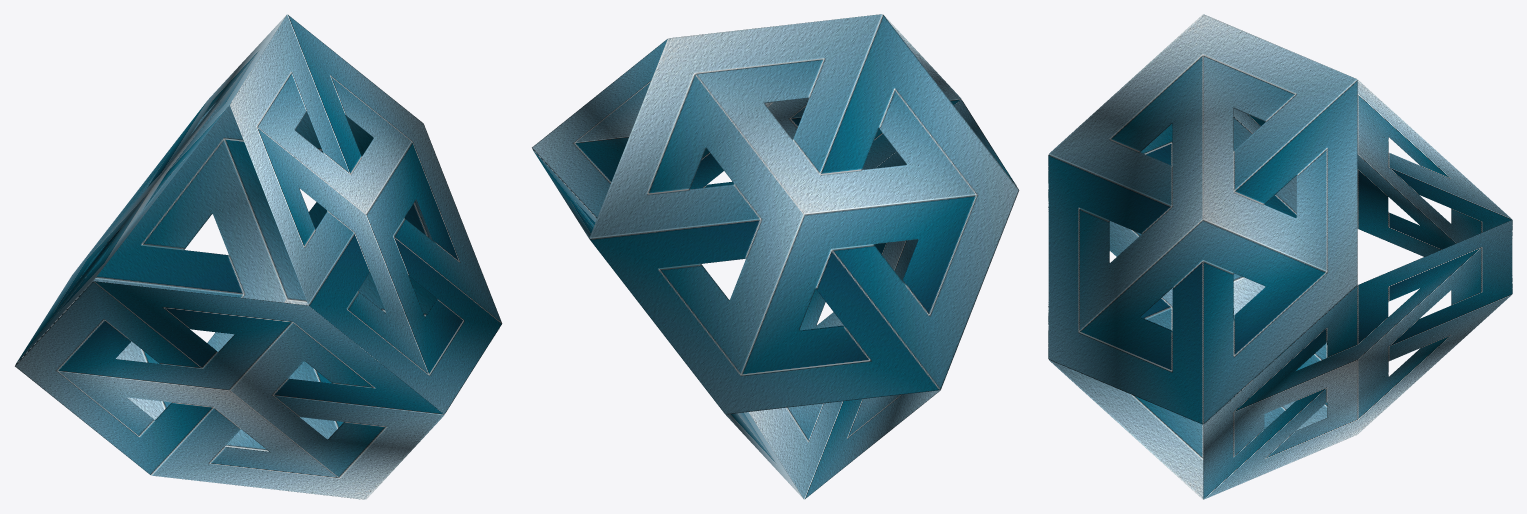
File: TruncatedTetrahedron43.gltf
3 views of the same model, side by side, from view 1: azimuth 30°, elevation 25°; view 2: azimuth 150°, elevation 25°; view 3: azimuth 270°, elevation 25° (orthographic).
Visible parts, largest first — view 1: 0TruncatedTetrahedron; view 2: 0TruncatedTetrahedron; view 3: 0TruncatedTetrahedron.
Boxes of the visible parts, x1=… form: 0TruncatedTetrahedron: x1=15, y1=14, x2=502, y2=499; 0TruncatedTetrahedron: x1=532, y1=14, x2=1019, y2=499; 0TruncatedTetrahedron: x1=1048, y1=14, x2=1512, y2=499.
Size of the model in its own units: 2.12 by 2.12 by 2.12.
1 material, 1 textured.
